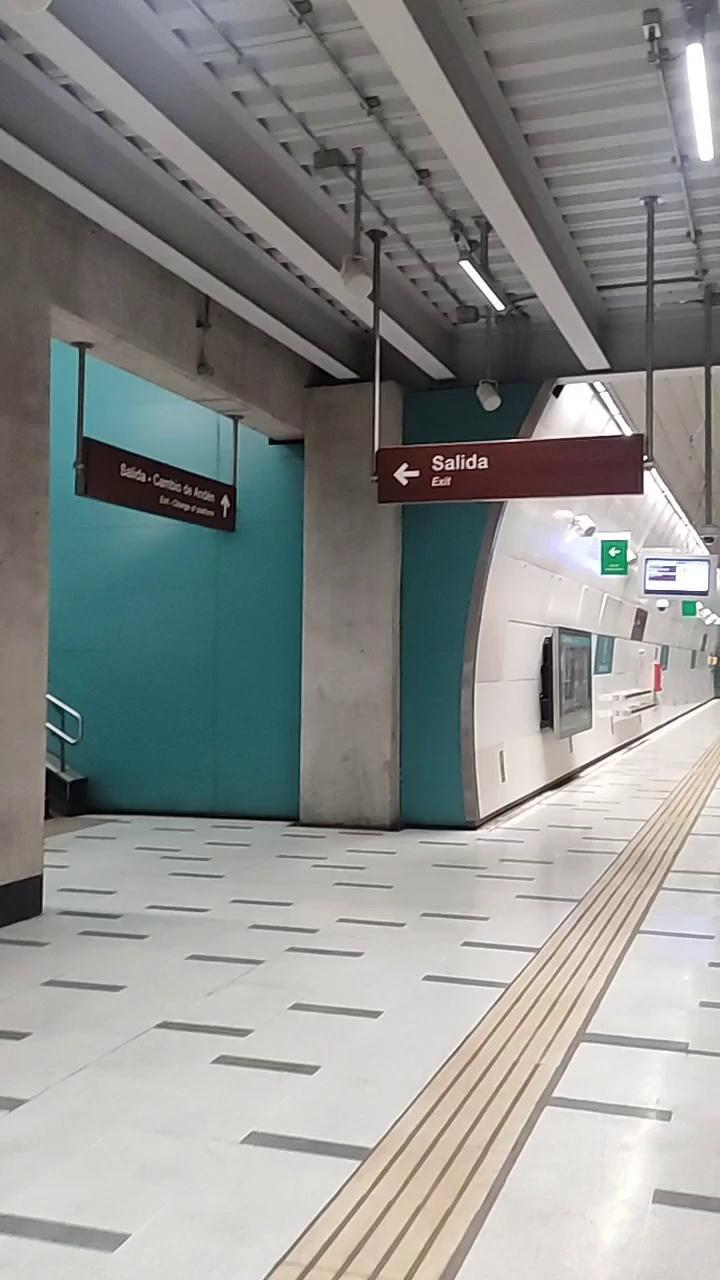emergency left arrow: (606, 545, 623, 559)
left arrow: (386, 460, 426, 491)
up arrow: (217, 492, 231, 523)
